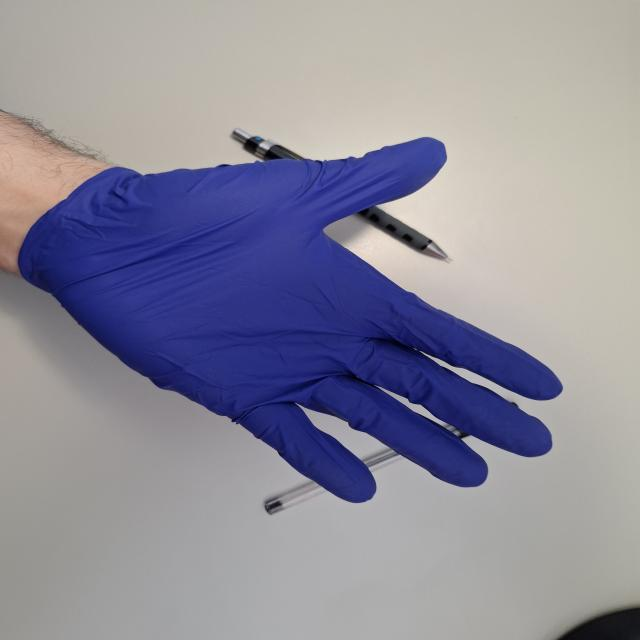glove_on: (16, 134, 570, 507)
